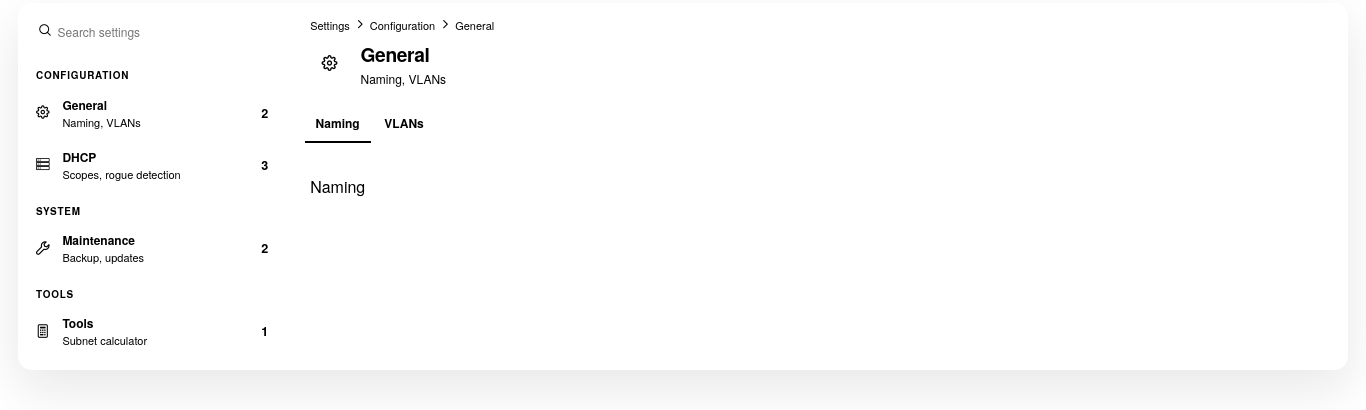
Test case: Settings workspace shell › filters the explorer by area label, blurb and section label
Type "rogue" into the search field with placeholder "Search settings".
click(155, 31); type("rogue")  # box x1=30 y1=16 x2=281 y2=47
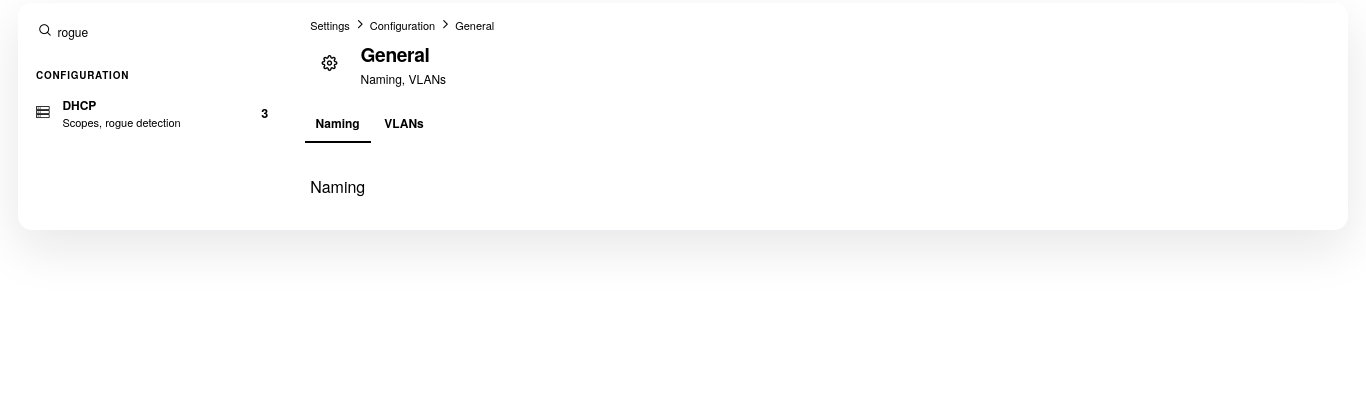
Result: the elements with class "eyebrow" read "Configuration", in this order at x1=36 y1=68 x2=129 y2=82
Replace the text in the search field named "Search settings" with "calculator" at coordinates (155, 31), box x1=30 y1=16 x2=281 y2=47
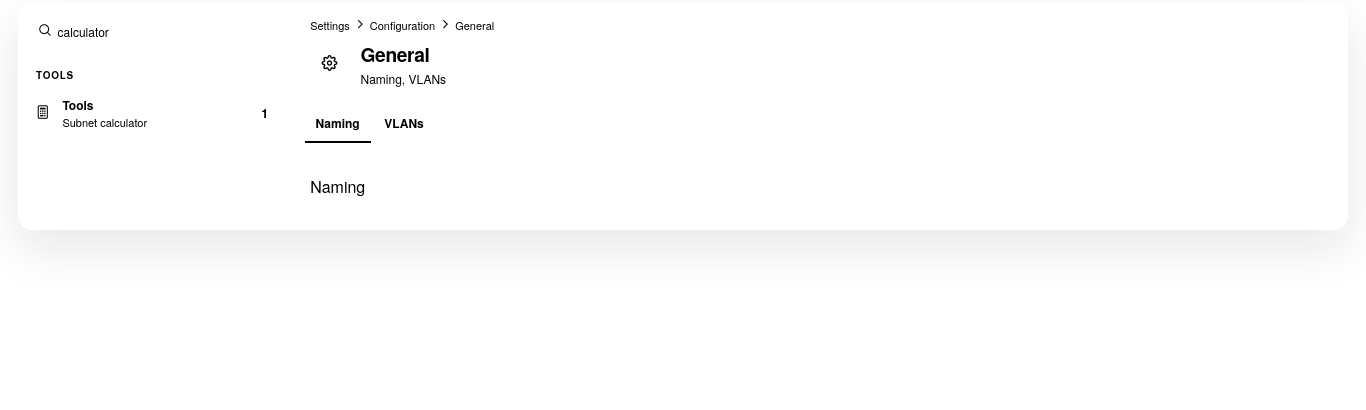
Replace the text in the search field named "Search settings" with "zzz" at coordinates (155, 31), box x1=30 y1=16 x2=281 y2=47
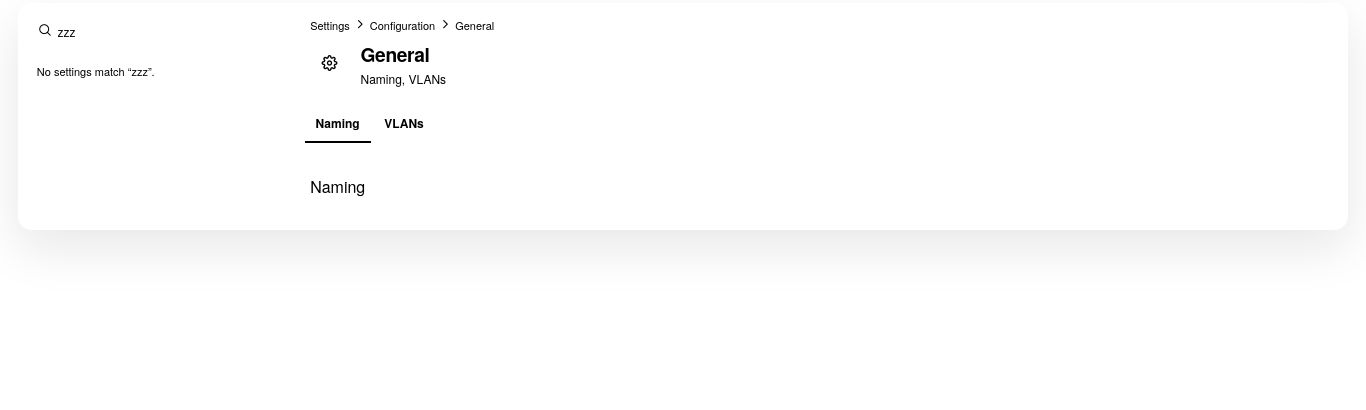
Result: the text with class "explorer-empty" shows "zzz" at x1=37 y1=63 x2=155 y2=79
